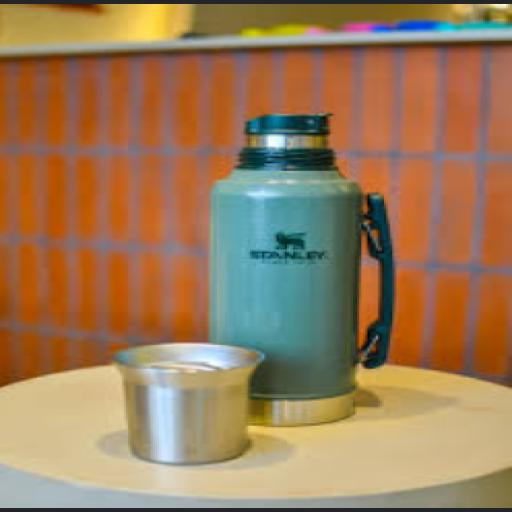termo: (209, 115, 394, 427)
